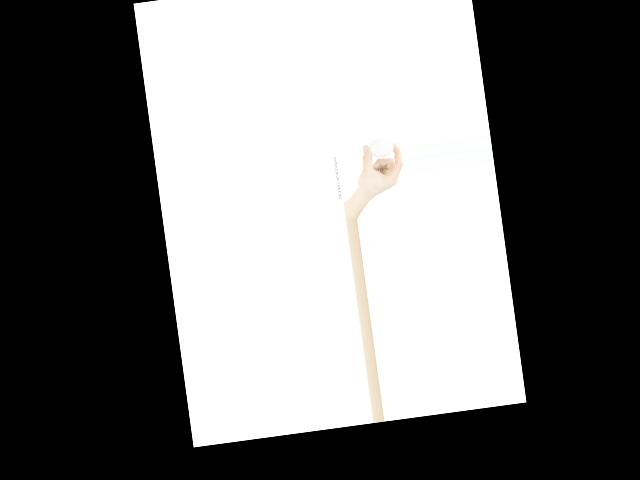egg: (368, 138, 394, 158)
